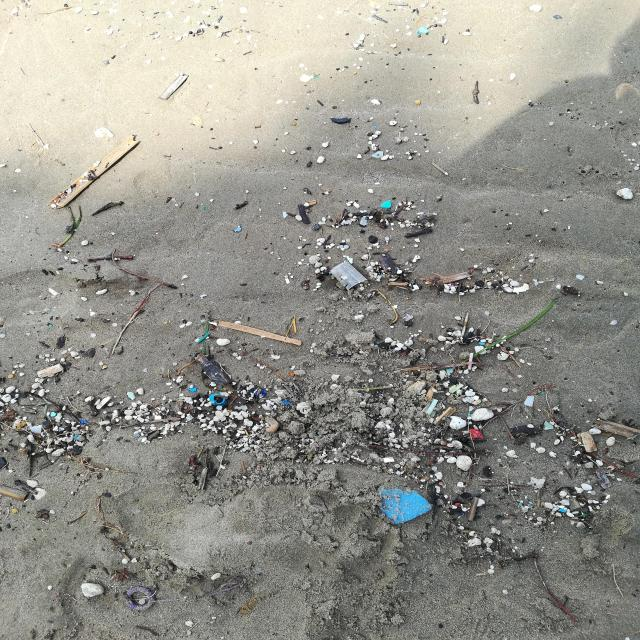litter: (125, 583, 241, 610), (371, 488, 431, 525), (329, 262, 366, 290), (580, 433, 596, 451), (421, 398, 438, 414), (208, 393, 226, 406), (197, 332, 211, 343), (470, 429, 482, 439), (425, 387, 437, 397), (523, 396, 533, 406), (417, 26, 429, 34), (255, 389, 266, 397), (127, 392, 136, 400), (282, 400, 292, 405), (188, 388, 197, 392), (559, 509, 567, 512)
